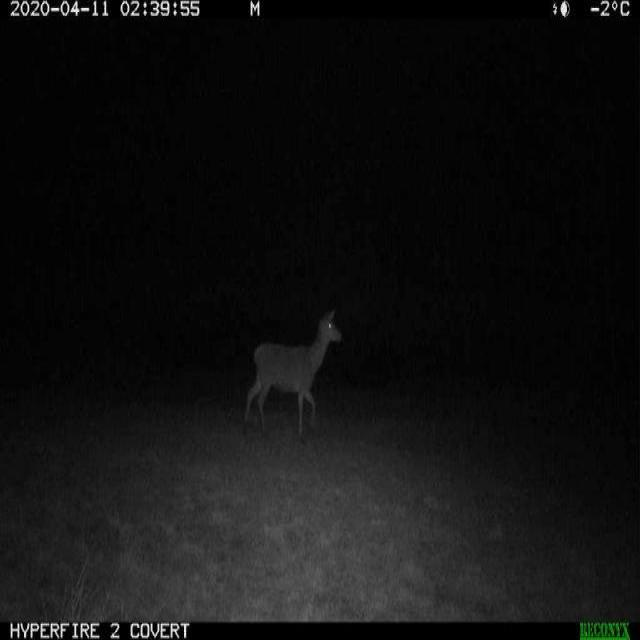deer: (246, 312, 338, 452)
